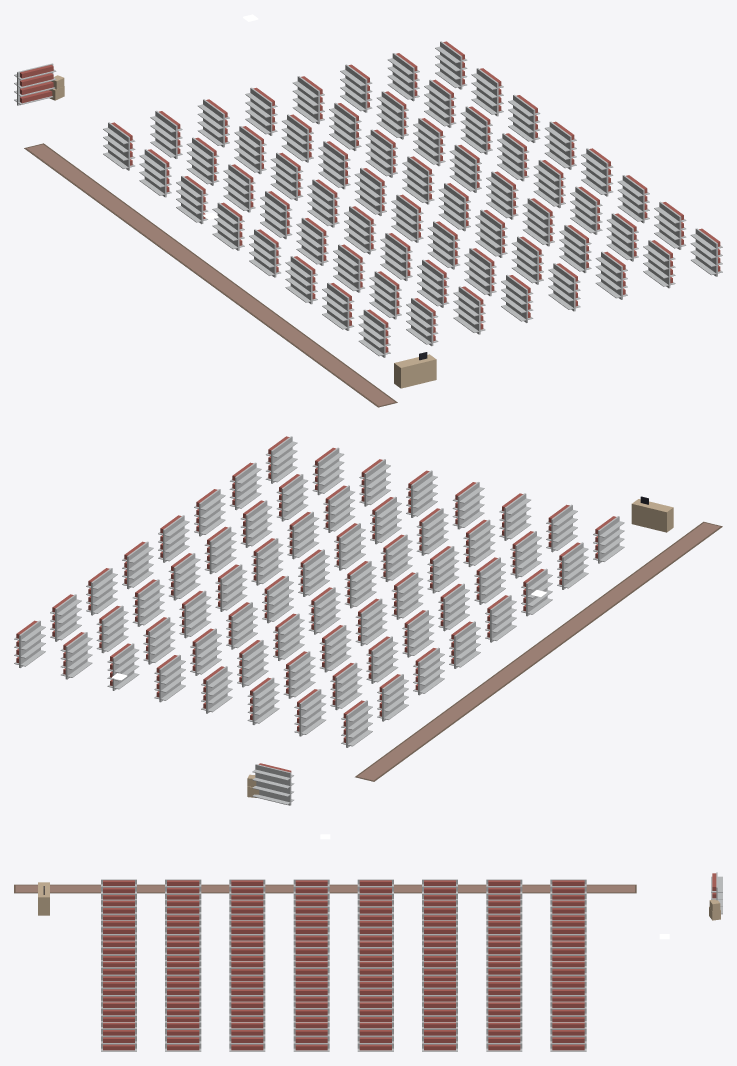
Rendered from fine-s0.glb.
3 views of the same model, one above another, from view 1: azimuth 30°, elevation 25°; view 2: azimuth 150°, elevation 25°; view 3: azimuth 270°, elevation 25° (orthographic). The views are drawn at different scales.
Parts seen in each view (by area): view 1: soft-s0, shelving.000, shop-counter.000, shelf.032, shelf.001, shelf.014, shelf.023, shelf.021, shelf.030, shelf.008, shelf.010, shelf.019 (+55 smaller); view 2: soft-s0, shelving.000, shop-counter.000, shelf.009, shelf.044, shelf.050, shelf.022, shelf.029, shelf.055, shelf.011, shelf.030, shelf.043 (+55 smaller); view 3: soft-s0, shelf.056, shelf.057, shelf.059, shelf.060, shelf.061, shelf.062, shelf.058, shelf.063, shelf.008, shelf.009, shelf.011 (+54 smaller).
Part boxes in pixels (x1,y1,x2,y2): soft-s0: (24,143,397,407); shelving.000: (14,63,56,105); shop-counter.000: (394,352,436,388); shelf.032: (292,76,324,124); shelf.001: (139,149,171,197); shelf.014: (369,271,401,319); shelf.023: (453,286,485,334); shelf.021: (380,233,412,281); shelf.030: (464,248,496,296); shelf.008: (150,110,182,158); shelf.010: (223,164,255,212); shelf.019: (307,179,339,227); soft-s0: (355,521,722,781); shelving.000: (252,763,294,805); shop-counter.000: (631,496,673,532); shelf.009: (330,662,362,710); shelf.044: (251,538,283,585); shelf.050: (132,579,164,626); shelf.022: (463,519,495,566); shelf.029: (380,534,412,581); shelf.055: (312,447,344,495); shelf.011: (402,610,434,657); shelf.030: (416,508,448,555); shelf.043: (215,564,247,611); soft-s0: (14,884,636,893); shelf.056: (550,1022,586,1051); shelf.057: (486,1022,522,1051); shelf.059: (357,1022,393,1051); shelf.060: (293,1022,329,1051); shelf.061: (229,1022,265,1051); shelf.062: (165,1022,201,1051); shelf.058: (422,1022,457,1051); shelf.063: (101,1022,136,1051); shelf.008: (550,899,586,920); shelf.009: (486,899,522,920); shelf.011: (357,899,393,920).
Bounding box in the file's own units: 19.95 × 2.89 × 35.33.
